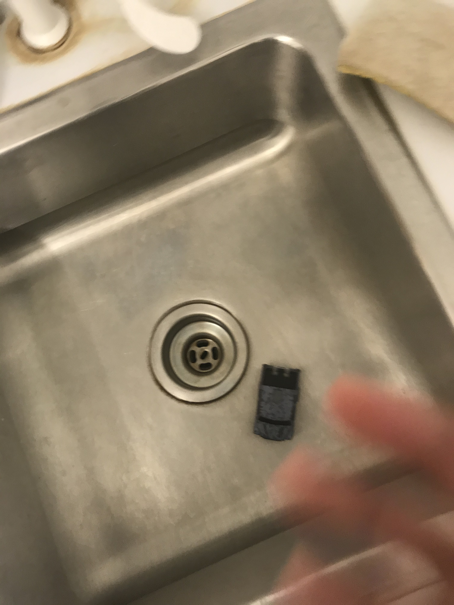MXT: (252, 363, 303, 442)
